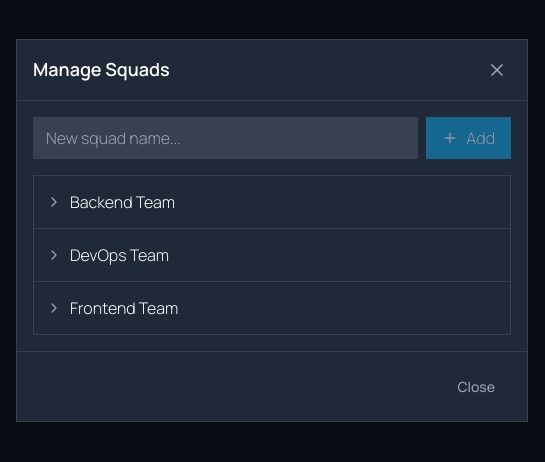
Test: ManageSquadsModal › user list functionality › shows loading state while fetching users
Click the text "Frontend Team": (124, 308) [70, 296, 178, 320]
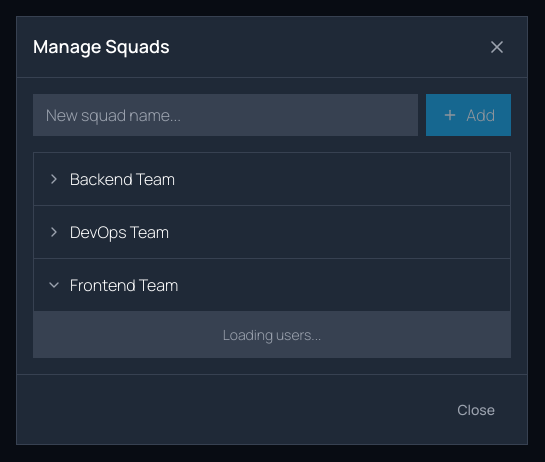
Result: the text "Loading users..." is shown at [223, 324, 321, 344]
